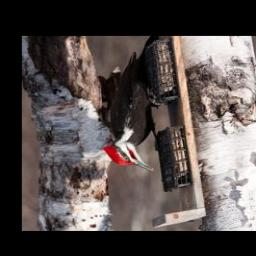Woodpecker: (100, 52, 165, 173)
